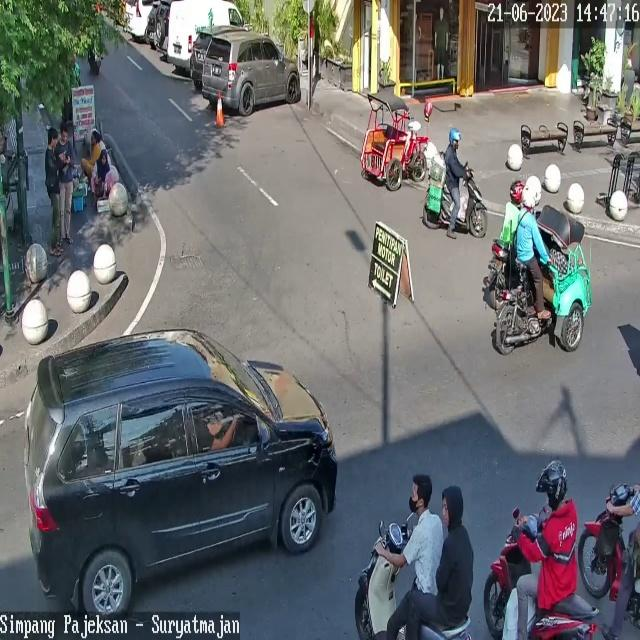bus: (482, 512, 601, 640), (354, 521, 472, 640), (577, 481, 640, 598), (424, 165, 488, 237), (487, 239, 515, 309)
motorcycle: (24, 328, 339, 621), (202, 31, 300, 116), (166, 0, 244, 67), (191, 28, 213, 82), (123, 0, 152, 36)
